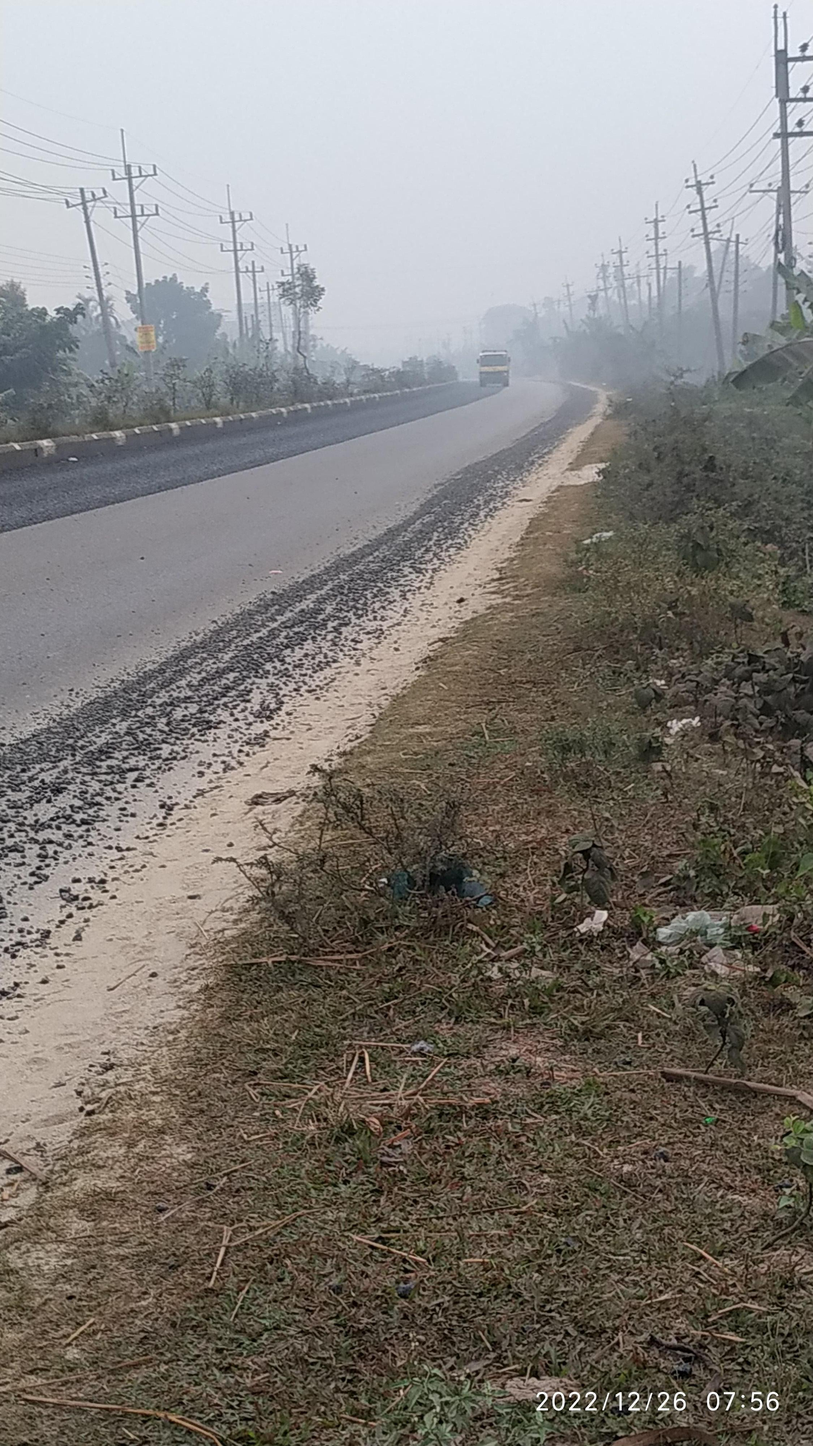Truck: (462, 334, 518, 401)
